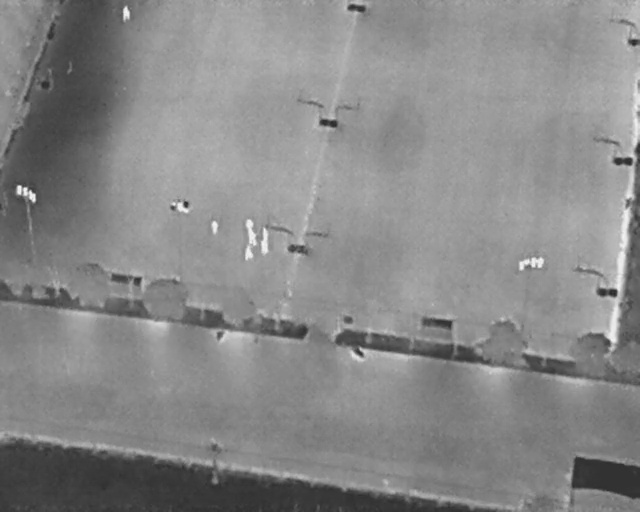Person: (244, 244, 254, 261), (248, 228, 257, 246), (260, 240, 270, 256), (245, 218, 254, 235), (122, 4, 130, 23), (261, 227, 269, 244), (210, 220, 218, 235)
